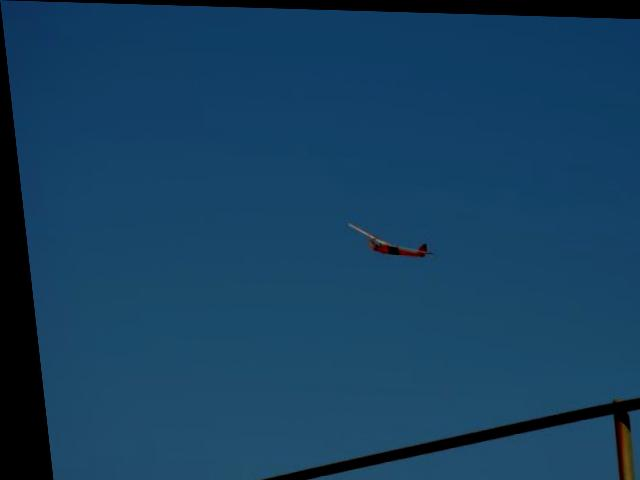iha: (346, 224, 430, 260)
